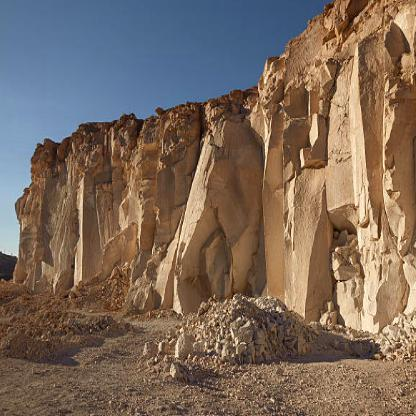Sedimentary_Limestone: (188, 88, 262, 296), (350, 27, 386, 221), (290, 170, 331, 310), (73, 166, 99, 286), (384, 16, 407, 69)
